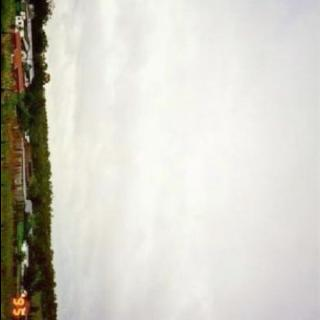Nimbostratus: (38, 0, 320, 320)
